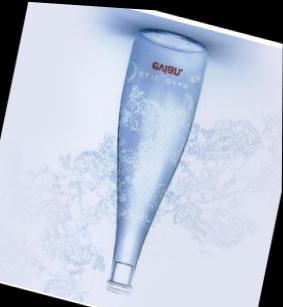glass: (109, 30, 206, 285)
metal: (109, 30, 206, 285)
